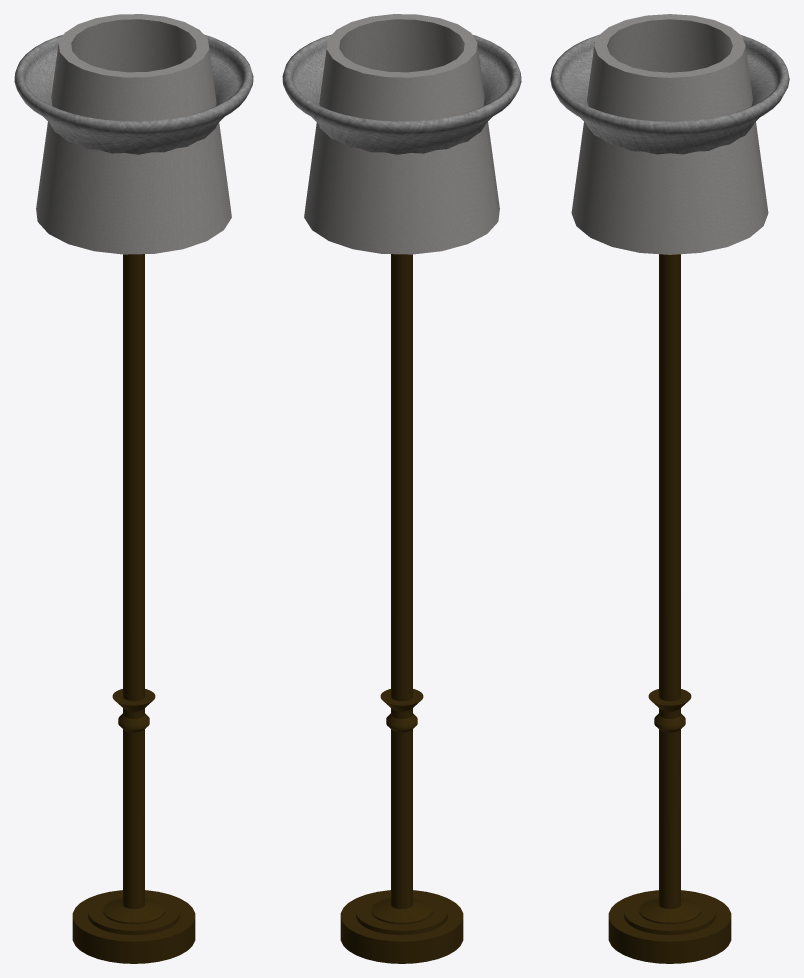
File: lamp.fbx
3 renders of one model, left to right at view 1: azimuth 30°, elevation 25°; view 2: azimuth 150°, elevation 25°; view 3: azimuth 270°, elevation 25°, orthographic.
Visible parts, largest first — view 1: hood_02, base1, hood_01, base; view 2: hood_02, base1, hood_01, base; view 3: hood_02, base, base1, hood_01.
Part boxes in pixels (x1=…): hood_02: x1=36, y1=14, x2=231, y2=254; base1: x1=123, y1=254, x2=144, y2=908; hood_01: x1=14, y1=34, x2=253, y2=154; base: x1=72, y1=689, x2=195, y2=963; hood_02: x1=304, y1=14, x2=499, y2=254; base1: x1=391, y1=254, x2=412, y2=908; hood_01: x1=282, y1=34, x2=521, y2=154; base: x1=340, y1=689, x2=463, y2=963; hood_02: x1=571, y1=14, x2=768, y2=254; base: x1=608, y1=689, x2=731, y2=963; base1: x1=659, y1=254, x2=680, y2=905; hood_01: x1=550, y1=34, x2=789, y2=154.
Bounding box in the file's own units: 19.45 × 79.96 × 19.45.
